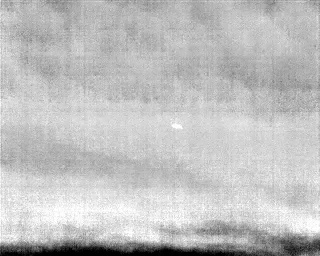BIRD: (169, 120, 185, 133)
